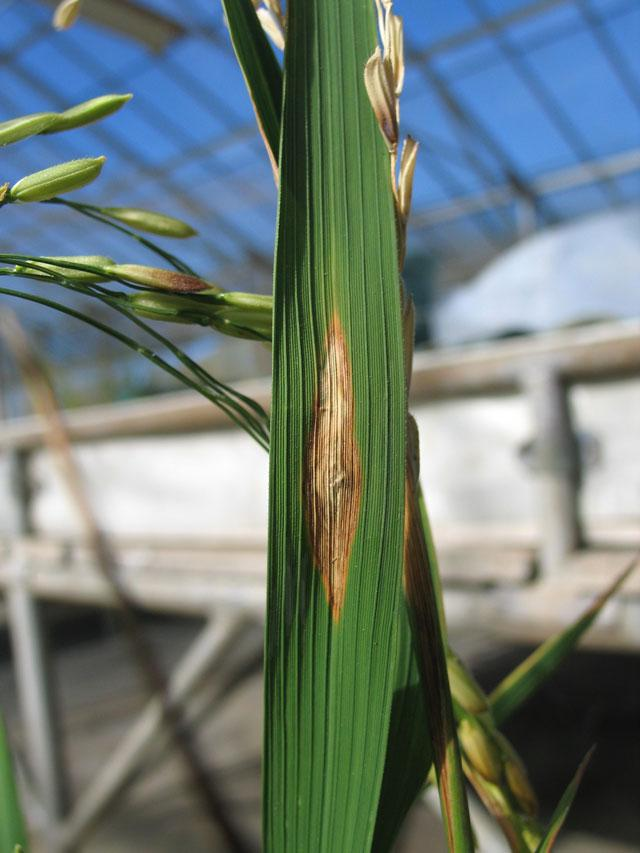1 RiceBlast: (285, 295, 369, 647)
